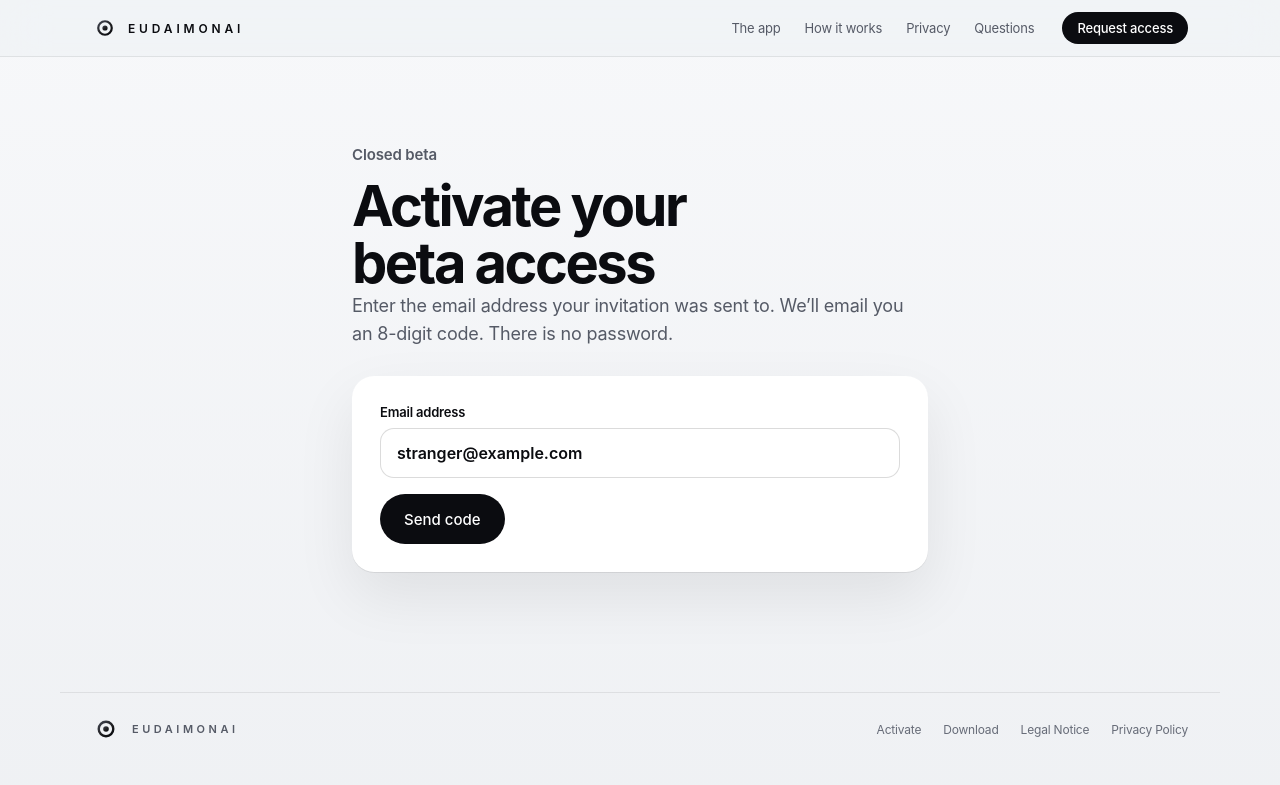
ActivatePage › explains a missing invitation without creating anything
Click the button "Send code".
click(442, 519)  # box [380,494,505,544]
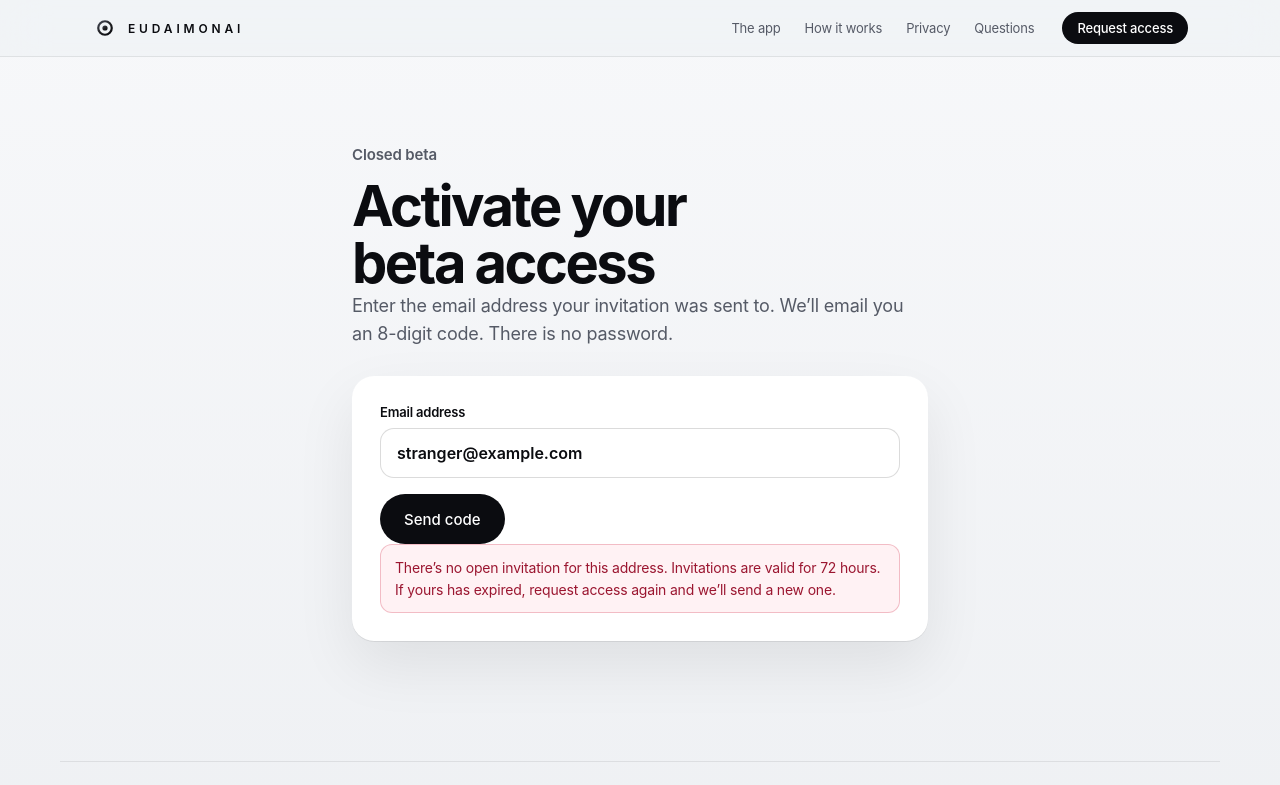
expect the message shows "no open invitation": met, box [395,559,880,598]
